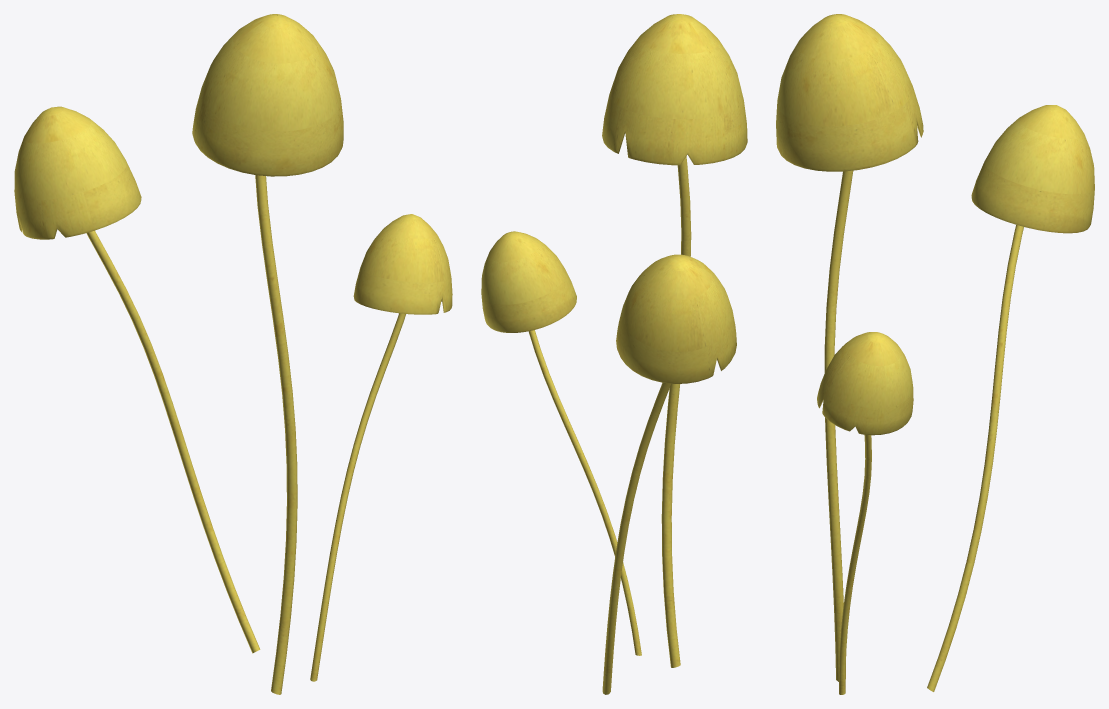
Rendered from Shrooms_05.fbx.
3 views of the same model, side by side, from view 1: azimuth 30°, elevation 25°; view 2: azimuth 150°, elevation 25°; view 3: azimuth 270°, elevation 25° (orthographic). The views are drawn at different scales.
Parts seen in each view (by area): view 1: Shrooms.005; view 2: Shrooms.005; view 3: Shrooms.005.
Boxes of the visible parts, x1,y1,x2,y2 form: Shrooms.005: [14, 14, 452, 694]; Shrooms.005: [481, 14, 747, 694]; Shrooms.005: [776, 14, 1094, 694].
Bounding box in the file's own units: 5.11 × 4.3 × 9.88.
